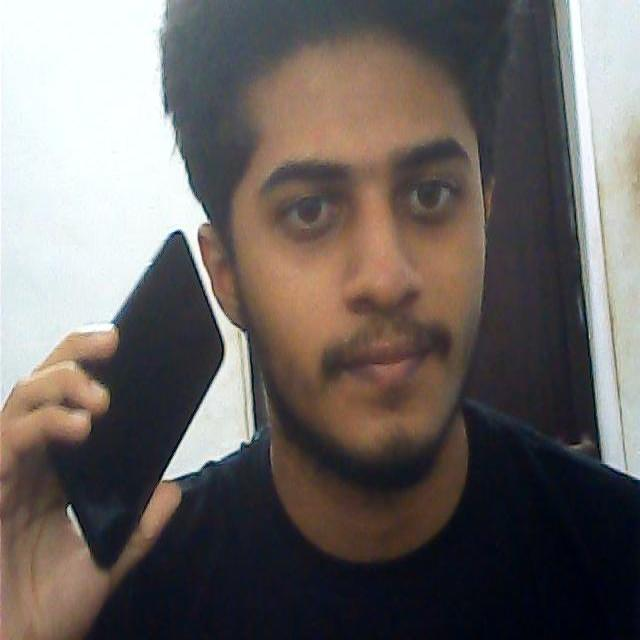phone: (37, 229, 226, 572)
